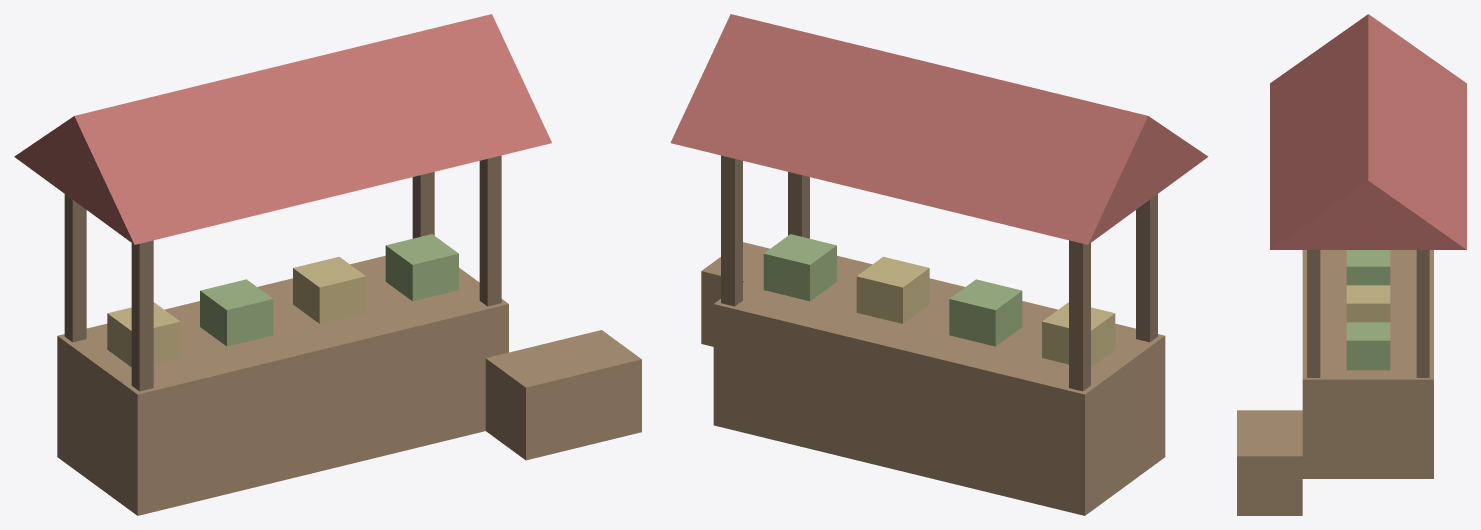
3 renders of one model, left to right at view 1: azimuth 30°, elevation 25°; view 2: azimuth 150°, elevation 25°; view 3: azimuth 270°, elevation 25°, orthographic. The views are drawn at different scales.
Parts seen in each view (by area): view 1: structure.market_stall; view 2: structure.market_stall; view 3: structure.market_stall.
Part boxes in pixels (<box>): structure.market_stall: <box>14,14,641,515</box>; structure.market_stall: <box>670,14,1208,515</box>; structure.market_stall: <box>1237,14,1466,515</box>.
Bounding box in the file's own units: 4.2 × 3.1 × 2.1.
